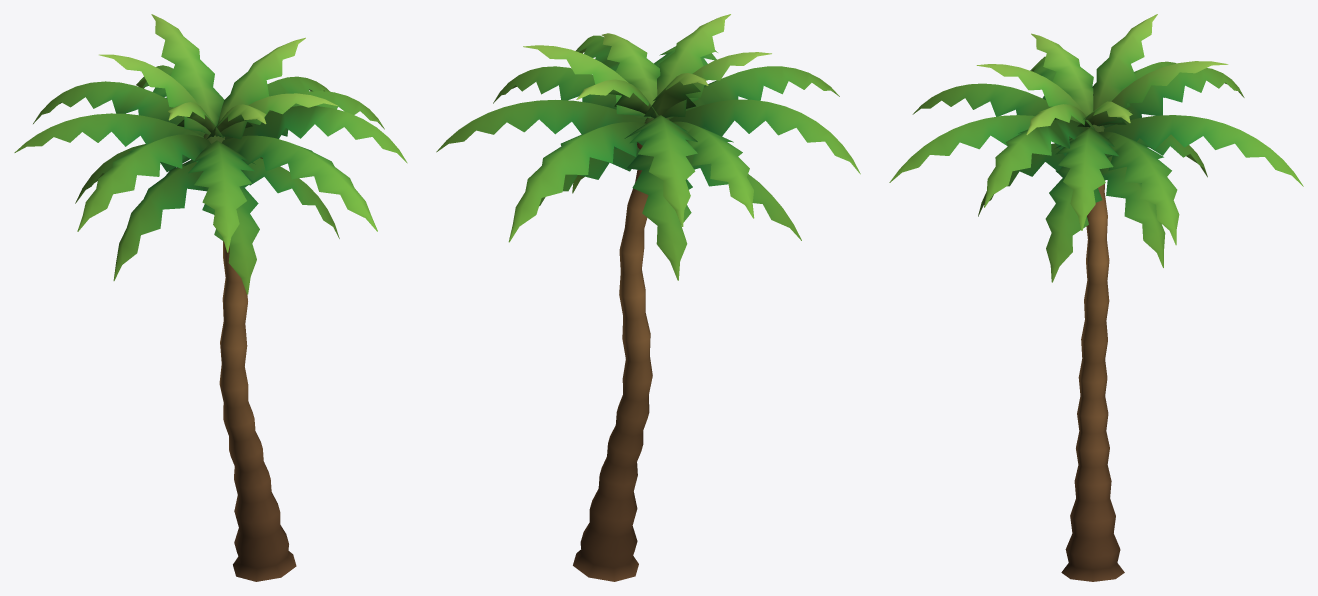
The model's file is palm2.glb.
3 renders of one model, left to right at view 1: azimuth 30°, elevation 25°; view 2: azimuth 150°, elevation 25°; view 3: azimuth 270°, elevation 25°, orthographic. The views are drawn at different scales.
Parts seen in each view (by area): view 1: Palm; view 2: Palm; view 3: Palm.
Part boxes in pixels (bbox=[...]): Palm: bbox=[14, 14, 407, 581]; Palm: bbox=[436, 14, 860, 581]; Palm: bbox=[889, 14, 1303, 581].
Size of the model in its own units: 8.1 by 12.05 by 9.03.
